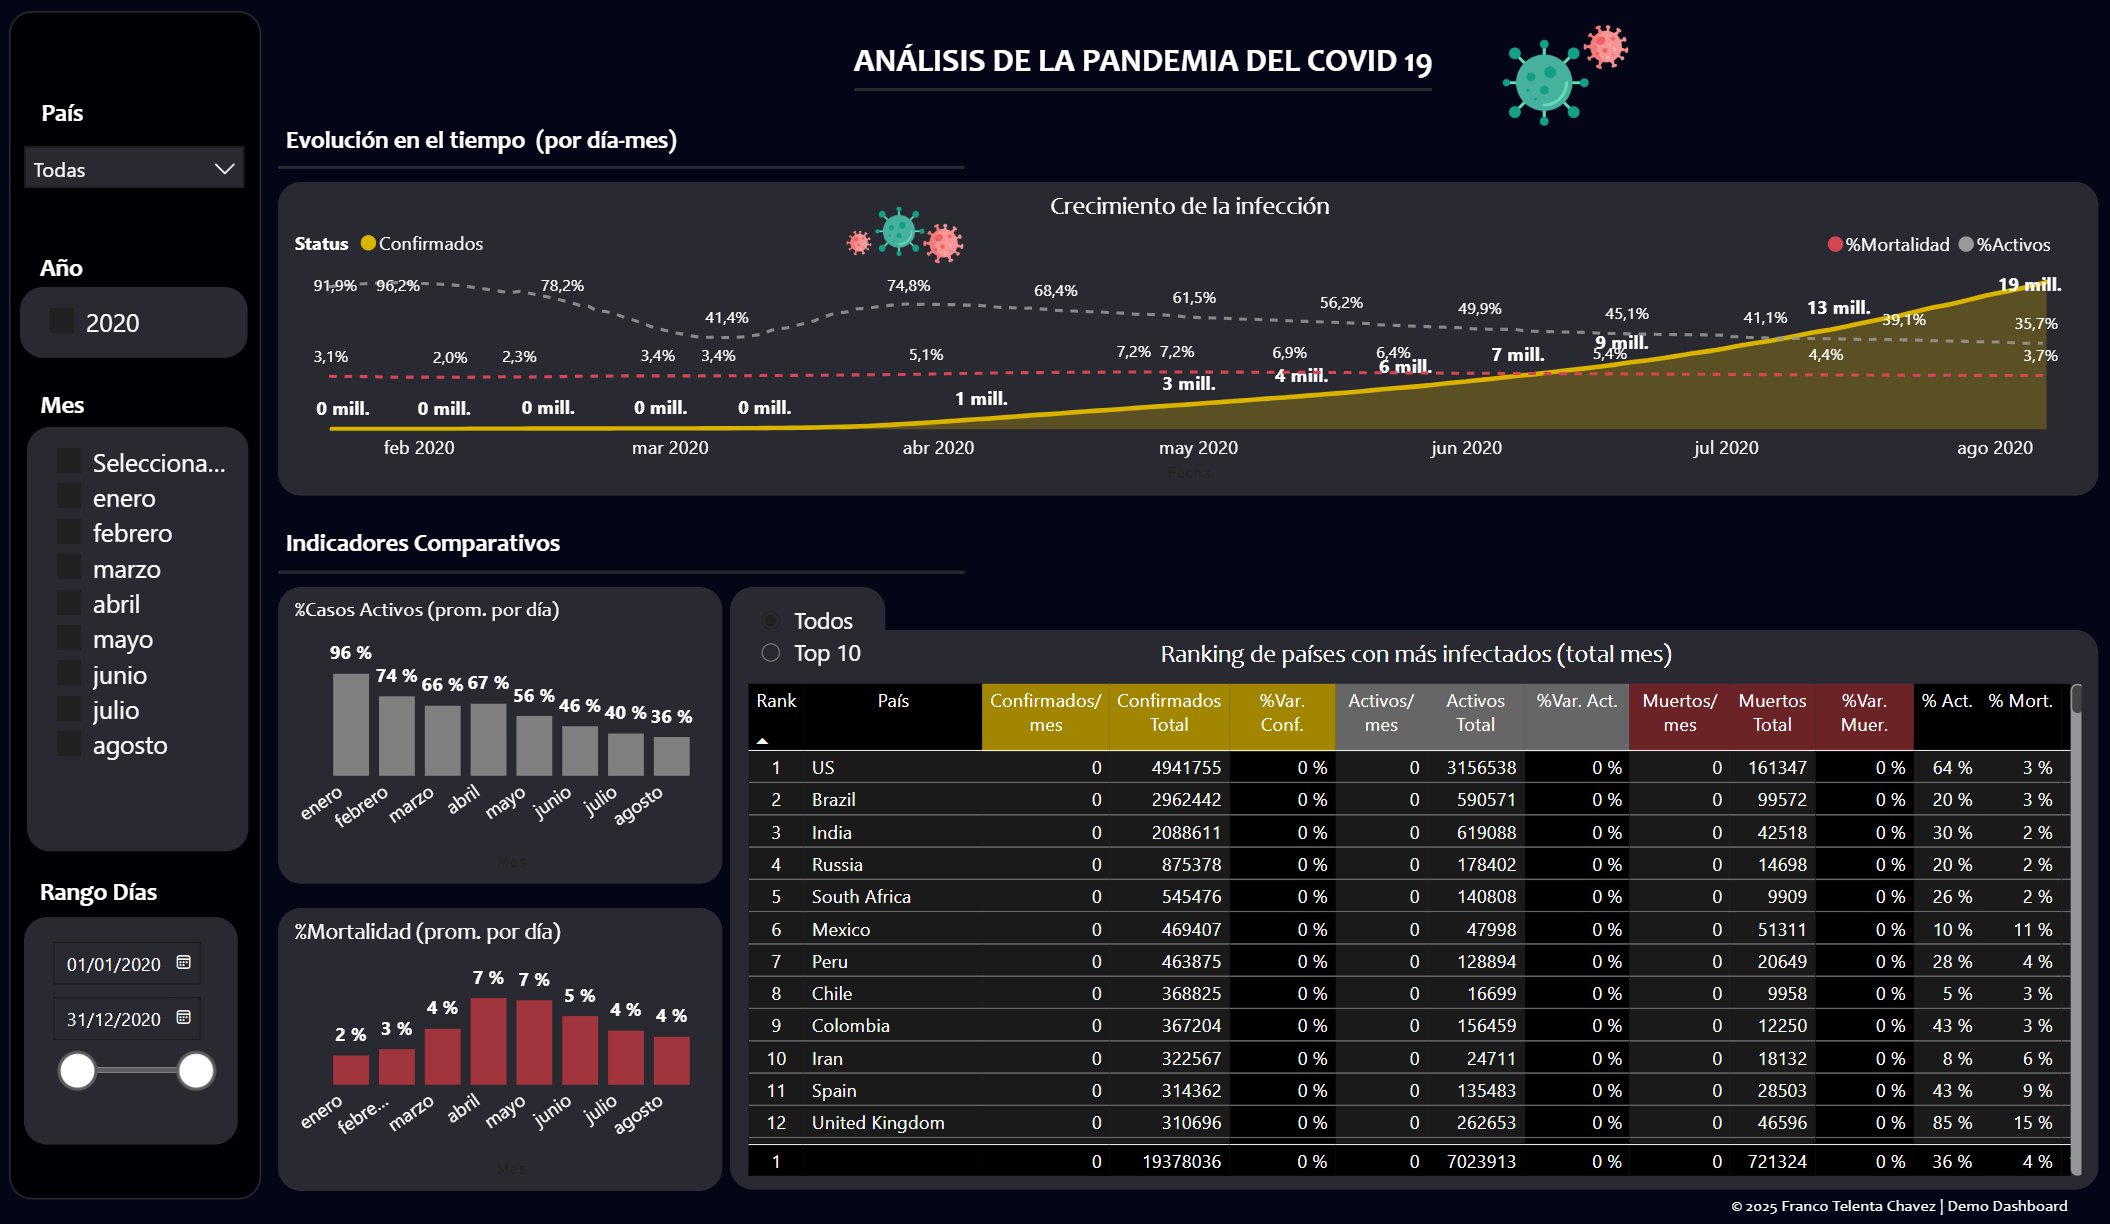

Layout of this report page (visuals, bound fields, positions):
{"tool":"powerbi","page":{"name":"DETALLE","canvas":[1380,800],"ordinal":1},"visuals":[{"type":"tableEx","title":"Ranking de países con más infectados (total mes)","fields":{"Values":["COVID19 - ACTUAL.Ranking","LOCATIONS.Country/Region","COVID19 - ACTUAL.DIF_Confirmados_Mensual","COVID19 - ACTUAL.CONFIRMADOS_U_S","COVID19 - ACTUAL.%Var_Confirmados_Mensual","COVID19 - ACTUAL.DIF_Activos_Mensual","COVID19 - ACTUAL.ACTIVOS_U_S","COVID19 - ACTUAL.%Var_Activos_Mensual","COVID19 - ACTUAL.DIF_Muertos_Mensual","COVID19 - ACTUAL.MUERTOS_U_S","COVID19 - ACTUAL.%Var_Muertos_Mensual","COVID19 - ACTUAL.%Activos_U_S"]},"box":[477.9,412.6,890.3,364.4],"z":0},{"type":"textbox","box":[8.9,9.6,164.1,773.3],"z":1000},{"type":"slicer","fields":{"Values":["LOCATIONS.Country/Region"]},"box":[8.9,87.7,163.2,68.3],"z":2000},{"type":"slicer","fields":{"Values":["MiCalendarioAuto.Date"]},"box":[19.1,599,138.8,148.4],"z":3000},{"type":"columnChart","title":"%Casos Activos (prom. por día)","fields":{"Category":["MiCalendarioAuto.Date.Variación.Jerarquía de fechas.Mes"],"Y":["COVID19 - GENERAL.%Recuperación_T"]},"box":[183.9,384.6,289.2,192.8],"z":4000},{"type":"clusteredColumnChart","title":"%Mortalidad (prom. por día)","fields":{"Category":["MiCalendarioAuto.Date.Variación.Jerarquía de fechas.Mes"],"Y":["COVID19 - GENERAL.%Mortalidad_T"]},"box":[183.9,593.1,289.2,183.9],"z":5000},{"type":"textbox","box":[17.5,567.9,99.3,42.9],"z":6000},{"type":"textbox","box":[8.7,161.7,69.3,42.7],"z":7000},{"type":"textbox","box":[9.3,250.9,69.3,41.3],"z":8000},{"type":"textbox","box":[8.9,61.2,69.3,44],"z":9000},{"type":"slicer","fields":{"Values":["MiCalendarioAuto.Date.Variación.Jerarquía de fechas.Mes"]},"box":[20.5,280.3,144.3,276.2],"z":10000},{"type":"slicer","fields":{"Values":["MiCalendarioAuto.Año"]},"box":[16.6,189.3,148.4,46],"z":11000},{"type":"textbox","box":[541.5,24.3,411.2,46.2],"z":12000},{"type":"areaChart","title":"Crecimiento de la infección","fields":{"Category":["COVID19 - GENERAL.Fecha"],"Y":["Sum(COVID19 - GENERAL.Casos)"],"Series":["COVID19 - GENERAL.Status"]},"box":[183.9,121,1184.3,203.8],"z":13000},{"type":"lineChart","title":"Evolución de la infección","fields":{"Category":["COVID19 - GENERAL.Fecha"],"Y":["COVID19 - GENERAL.%Mortalidad_T","COVID19 - GENERAL.%Recuperación_T"]},"box":[202.4,141.5,1144.6,113.5],"z":14000},{"type":"slicer","fields":{"Values":["Filtro_TOP.Modo"]},"box":[477.9,384.6,101.2,61.5],"z":15000},{"type":"textbox","box":[183.9,78.6,274.9,45.8],"z":16000},{"type":"textbox","box":[184,340.8,205.3,45.3],"z":17000},{"type":"shape","box":[184.1,102.2,446.7,18.7],"z":18000},{"type":"shape","box":[184,368.8,446.7,12],"z":19000},{"type":"image","box":[566.3,131.9,44.4,41.6],"z":20000},{"type":"image","box":[549.1,147.7,25.8,25.8],"z":21000},{"type":"shape","box":[559,54.3,376.2,13.8],"z":22000},{"type":"image","box":[975.8,23.3,66.2,66.2],"z":23000},{"type":"image","box":[1028.3,9.5,38.8,47.5],"z":24000},{"type":"image","box":[592.1,143.4,50.2,35.8],"z":25000},{"type":"textbox","box":[1124.8,771.3,255,28.7],"z":26000}]}

Visuals, with their boxes in screenshot pixels (x1, y1, x2, y2), scaled from the page's 1380x800 canvas onto the 2110x1224 screenshot:
"Ranking de países con más infectados (total mes)" tableEx: (left=731, top=631, right=2092, bottom=1189)
textbox: (left=14, top=15, right=265, bottom=1198)
slicer - LOCATIONS.Country/Region: (left=14, top=134, right=263, bottom=239)
slicer - MiCalendarioAuto.Date: (left=29, top=916, right=241, bottom=1144)
"%Casos Activos (prom. por día)" columnChart: (left=281, top=588, right=723, bottom=883)
"%Mortalidad (prom. por día)" clusteredColumnChart: (left=281, top=907, right=723, bottom=1189)
textbox: (left=27, top=869, right=179, bottom=935)
textbox: (left=13, top=247, right=119, bottom=313)
textbox: (left=14, top=384, right=120, bottom=447)
textbox: (left=14, top=94, right=120, bottom=161)
slicer - MiCalendarioAuto.Date.Variación.Jerarquía de fechas.Mes: (left=31, top=429, right=252, bottom=851)
slicer - MiCalendarioAuto.Año: (left=25, top=290, right=252, bottom=360)
textbox: (left=828, top=37, right=1457, bottom=108)
"Crecimiento de la infección" areaChart: (left=281, top=185, right=2092, bottom=497)
"Evolución de la infección" lineChart: (left=309, top=216, right=2060, bottom=390)
slicer - Filtro_TOP.Modo: (left=731, top=588, right=885, bottom=683)
textbox: (left=281, top=120, right=701, bottom=190)
textbox: (left=281, top=521, right=595, bottom=591)
shape: (left=281, top=156, right=964, bottom=185)
shape: (left=281, top=564, right=964, bottom=583)
image: (left=866, top=202, right=934, bottom=265)
image: (left=840, top=226, right=879, bottom=265)
shape: (left=855, top=83, right=1430, bottom=104)
image: (left=1492, top=36, right=1593, bottom=137)
image: (left=1572, top=15, right=1632, bottom=87)
image: (left=905, top=219, right=982, bottom=274)
textbox: (left=1720, top=1180, right=2109, bottom=1223)
